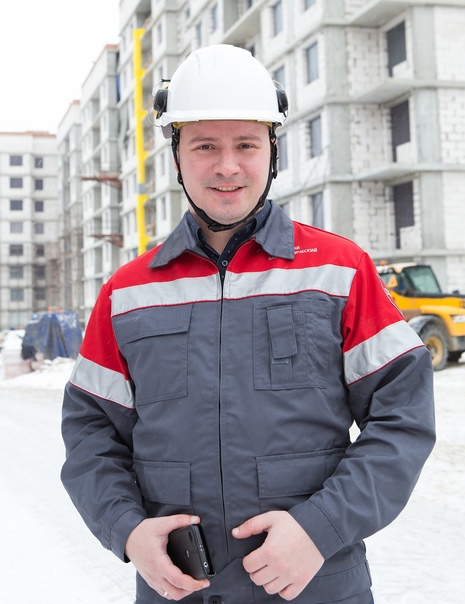person: (61, 43, 438, 604)
